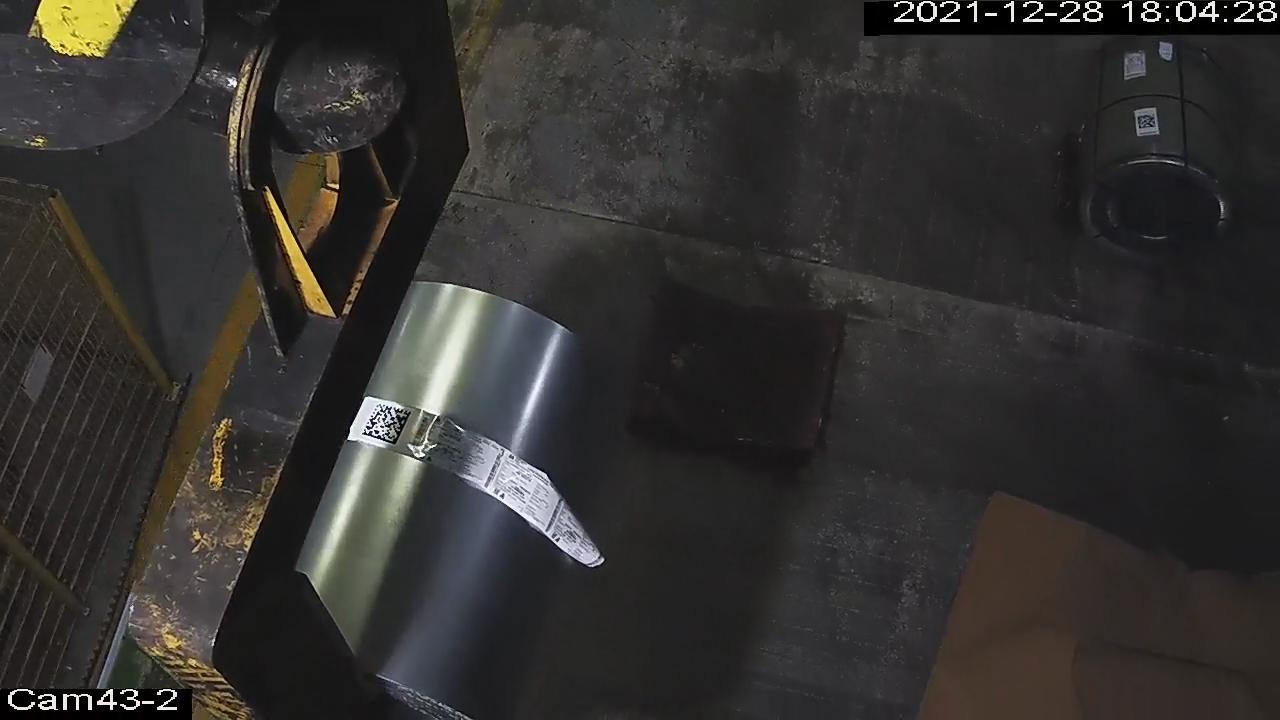data matrix: (360, 401, 414, 448)
